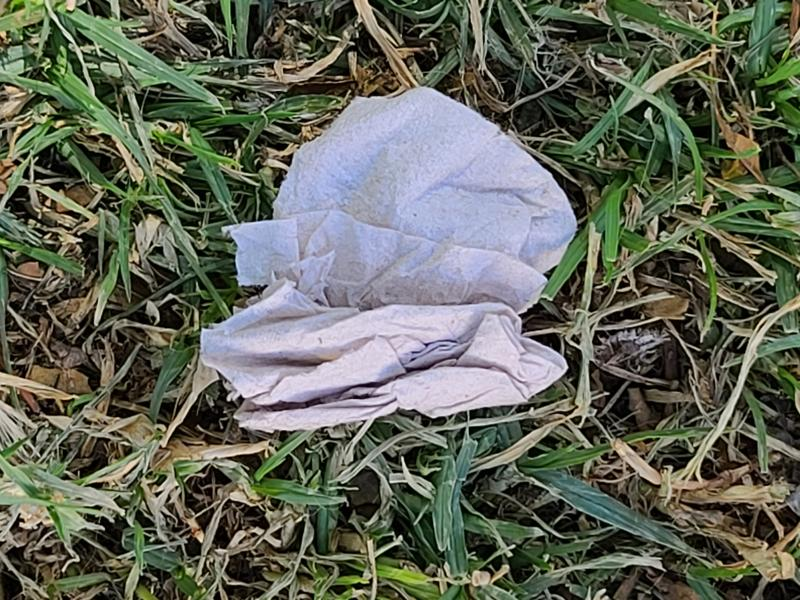papel: (199, 86, 583, 437)
